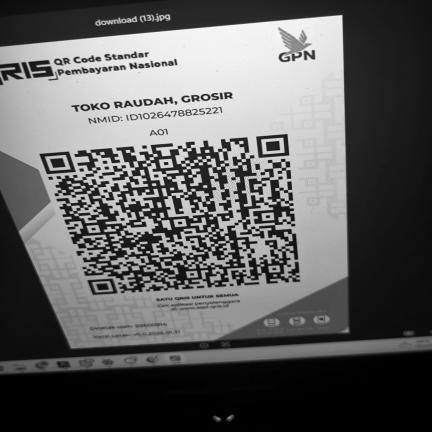Cara Pakai QRIS: (249, 303, 348, 337)
Cek Aplikasi Penyelenggara: (154, 298, 245, 313)
Dicetak Oleh: (84, 319, 171, 332)
Logo GPN: (269, 21, 329, 69)
Logo dan deskripsi QRIS: (0, 41, 190, 92)
Nama Merchant: (62, 84, 241, 116)
National Merchant ID: (67, 102, 244, 129)
QR Code: (32, 130, 308, 299)
Slogan: (152, 290, 242, 303)
Terminal ID: (142, 125, 177, 140)
Versi Cetak: (88, 327, 184, 341)
